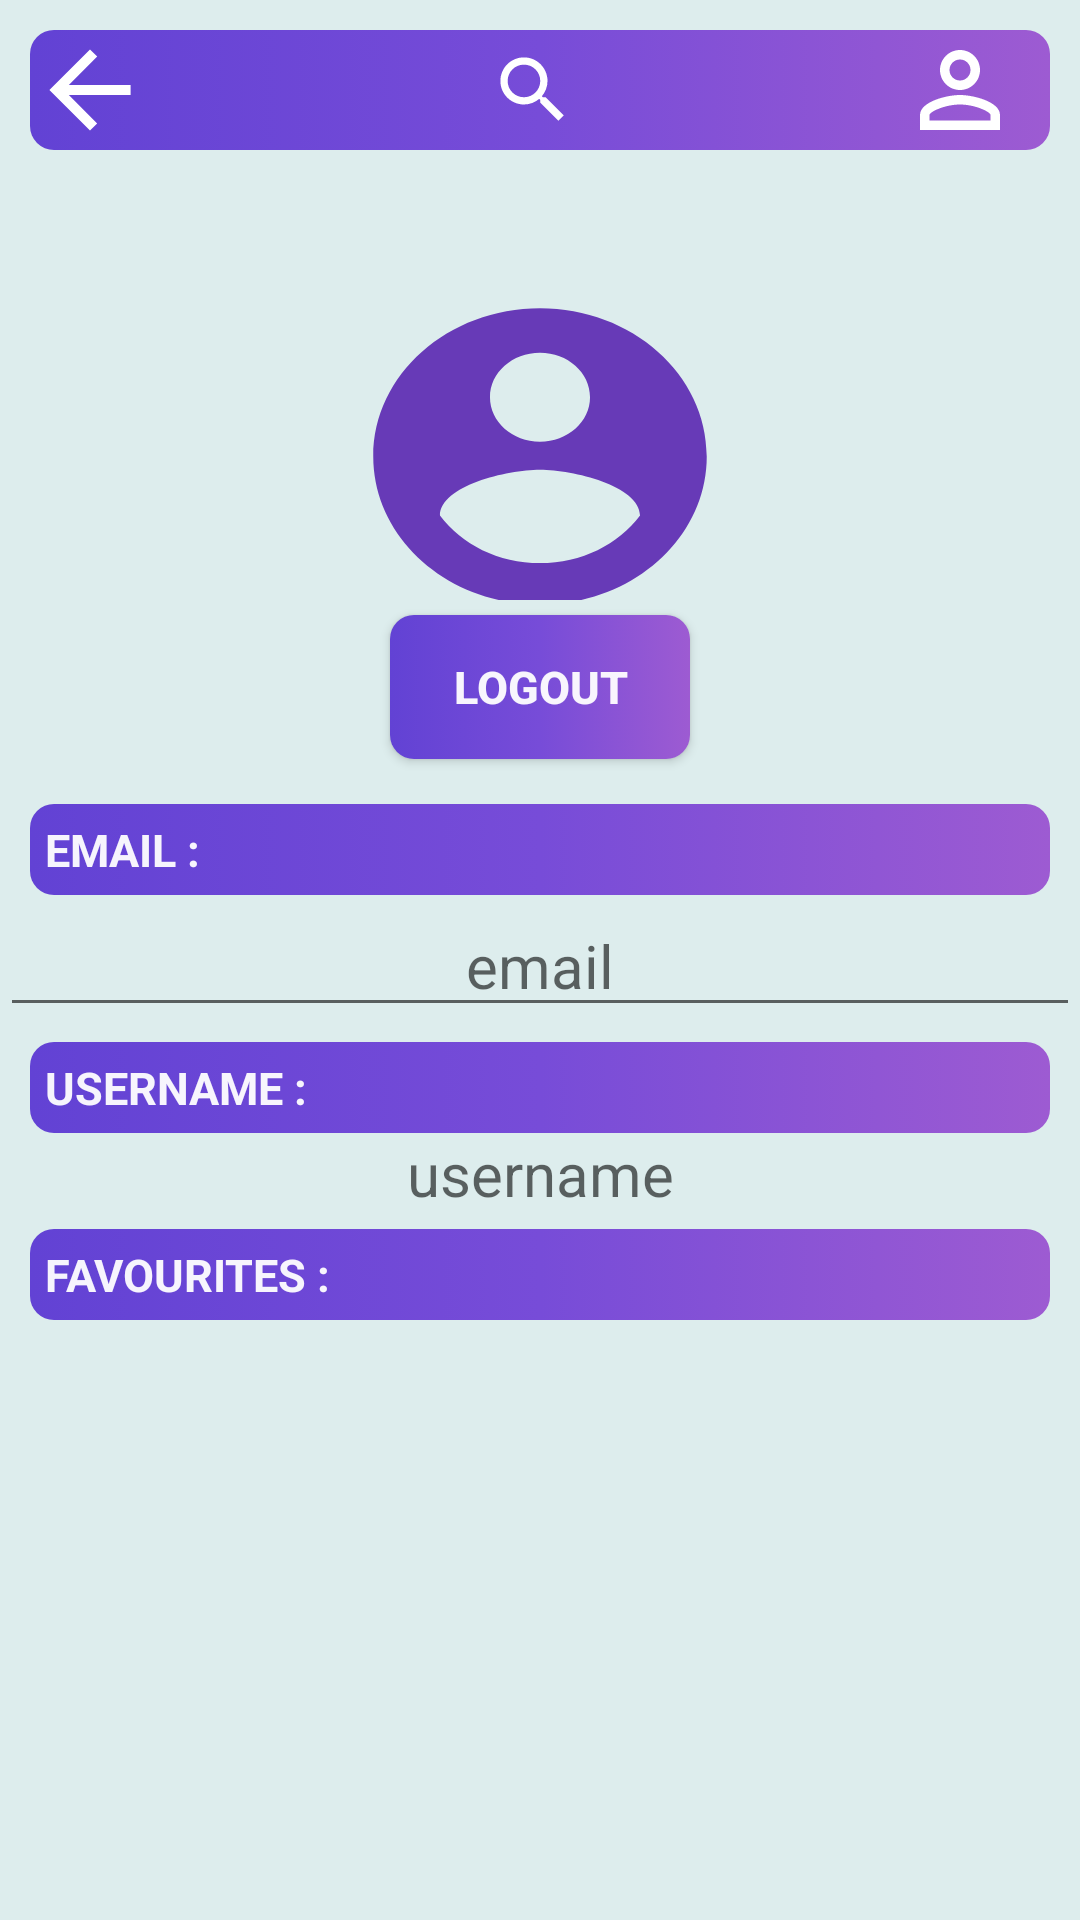

Point at icon controls on the screen. Image size 1080 x 1920, points as (x=x, y=y).
backbutton: (x=90, y=90)
profile: (x=960, y=90)
profile pic: (x=540, y=454)
search: (x=532, y=89)
